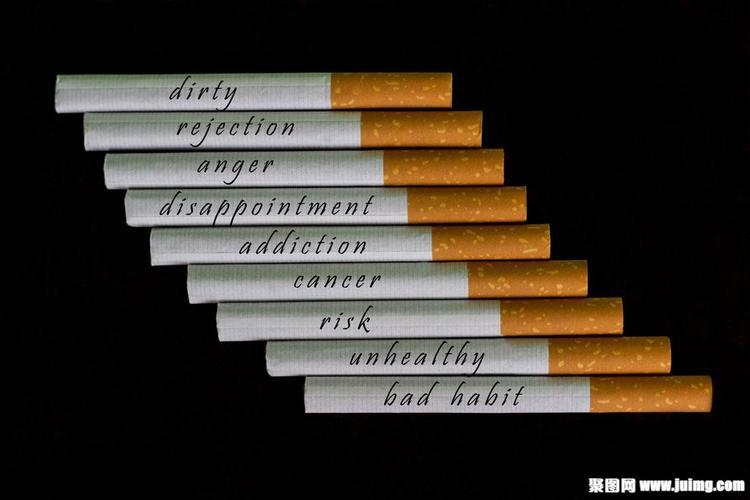smoke: (187, 259, 589, 304), (150, 223, 552, 267), (217, 298, 624, 340), (104, 148, 505, 190), (265, 336, 673, 377), (124, 186, 528, 227), (55, 74, 454, 114), (304, 376, 714, 414), (82, 113, 484, 151)
